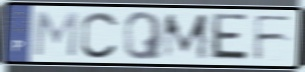C: (78, 10, 121, 61)
E: (207, 12, 251, 64)
F: (252, 14, 296, 63)
M: (161, 12, 210, 62), (32, 10, 80, 59)
Q: (122, 10, 165, 62)
